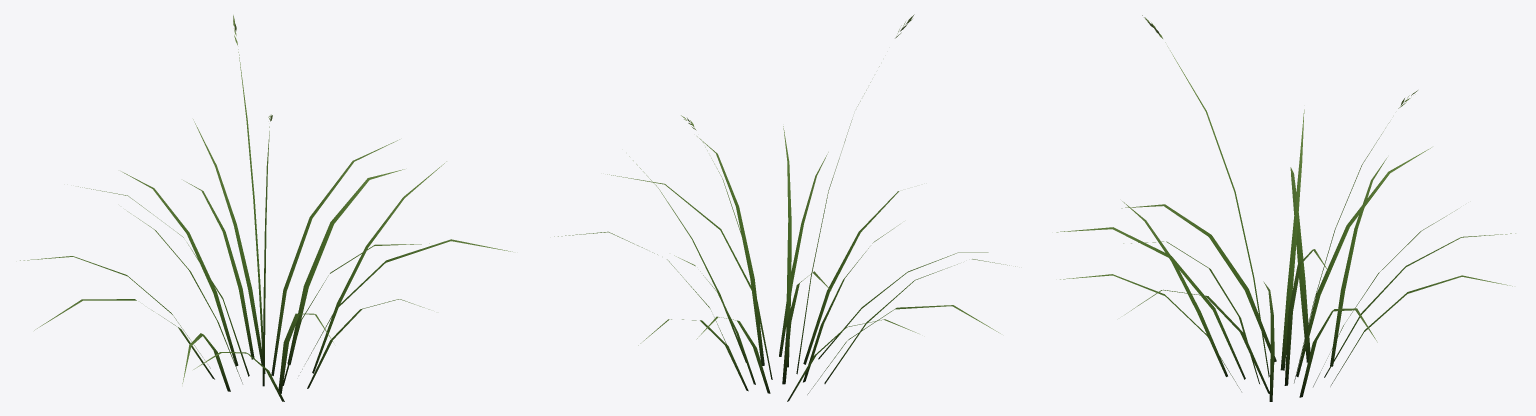
Rendered from b612_veg_VL_Grass_Meadow_C_0.glb.
The picture shows the model from 3 angles, left to right: view 1: azimuth 30°, elevation 25°; view 2: azimuth 150°, elevation 25°; view 3: azimuth 270°, elevation 25°; orthographic projection. The views are drawn at different scales.
Visible parts, largest first — view 1: Grass_Meadow_C_LOD0; view 2: Grass_Meadow_C_LOD0; view 3: Grass_Meadow_C_LOD0.
Part boxes in pixels (bbox=[...]): Grass_Meadow_C_LOD0: bbox=[20, 15, 512, 401]; Grass_Meadow_C_LOD0: bbox=[554, 14, 1015, 401]; Grass_Meadow_C_LOD0: bbox=[1056, 15, 1515, 401].
Size of the model in its own units: 0.625 by 0.4726 by 0.5991.
